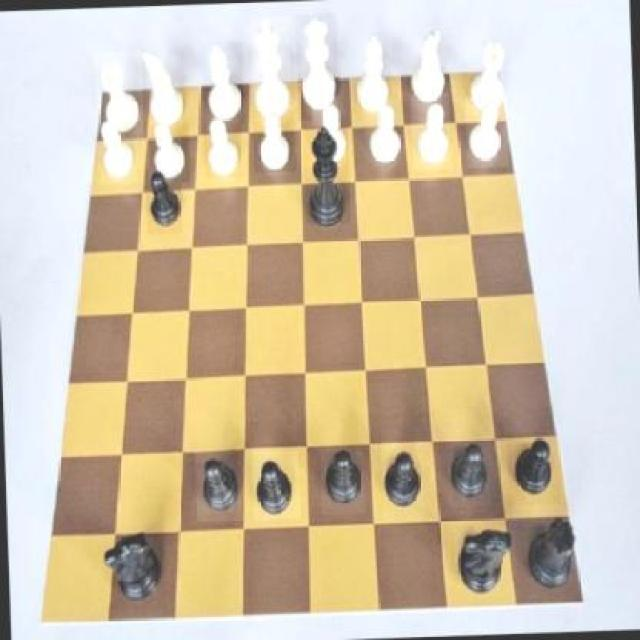black-bishop: (303, 126, 351, 226)
black-king: (101, 523, 166, 611), (452, 517, 516, 601)
black-knight: (508, 434, 560, 506), (380, 438, 424, 521), (195, 448, 243, 520), (252, 449, 300, 519), (448, 438, 492, 508), (320, 448, 366, 514), (146, 168, 183, 235)
black-queen: (523, 516, 581, 600)
black-rook: (203, 40, 246, 124), (351, 31, 391, 121)
white-bishop: (250, 17, 292, 125)
white-king: (402, 22, 448, 108), (142, 48, 186, 130)
white-knight: (464, 97, 508, 168), (411, 94, 451, 171), (364, 97, 404, 169), (252, 110, 296, 172), (97, 120, 138, 185), (312, 96, 350, 166), (148, 121, 190, 182), (203, 118, 241, 178)
white-pawn: (294, 12, 340, 120)
white-queen: (94, 51, 144, 141), (462, 35, 511, 111)
